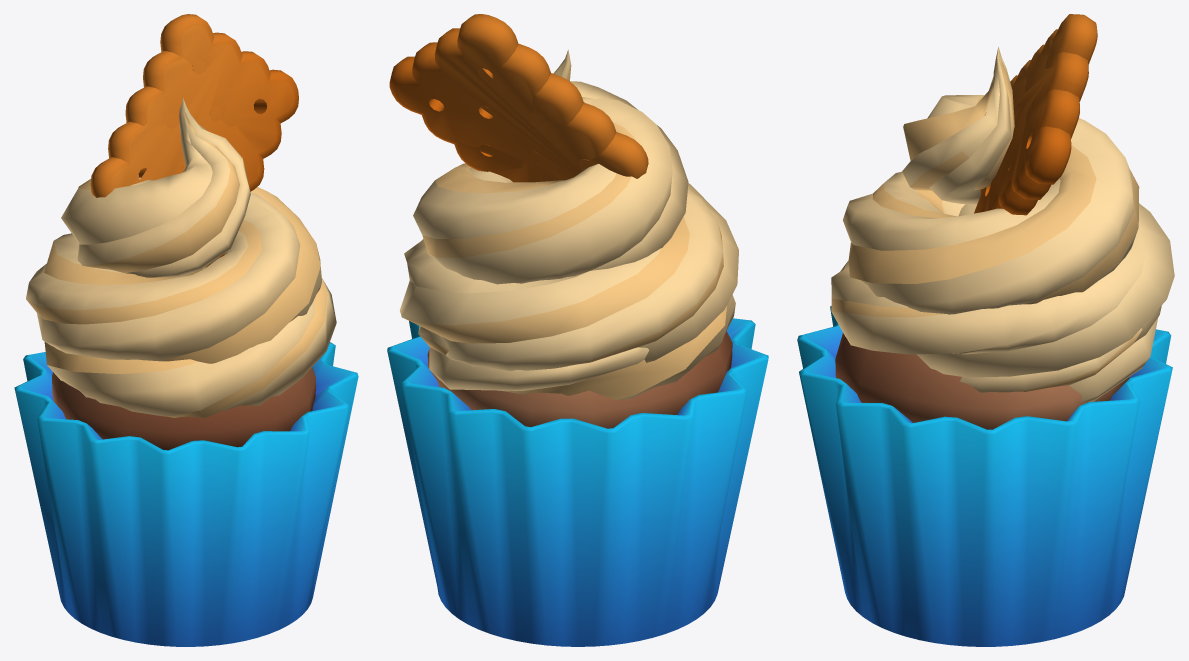
Rendered from Cupcake_01.fbx.
3 renders of one model, left to right at view 1: azimuth 30°, elevation 25°; view 2: azimuth 150°, elevation 25°; view 3: azimuth 270°, elevation 25°, orthographic. The views are drawn at different scales.
Visible parts, largest first — view 1: Cupcake_01; view 2: Cupcake_01; view 3: Cupcake_01.
Part boxes in pixels (box(x1,y1,x2,y2)): Cupcake_01: box(14, 14, 358, 646); Cupcake_01: box(387, 14, 768, 646); Cupcake_01: box(797, 14, 1174, 646).
Size of the model in its own units: 292 by 500 by 288.
